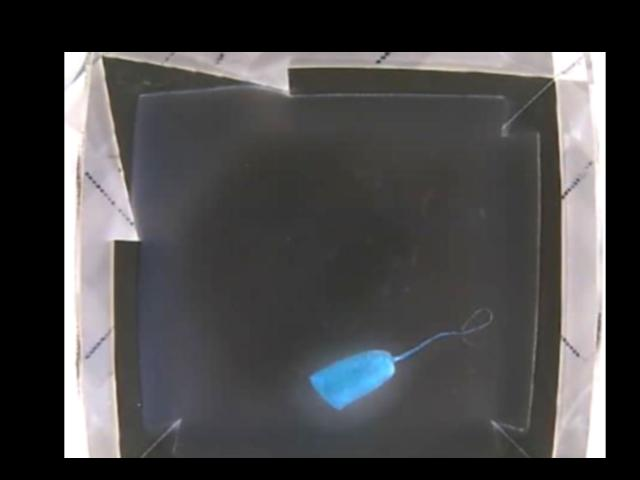Carrot: (310, 347, 402, 407)
